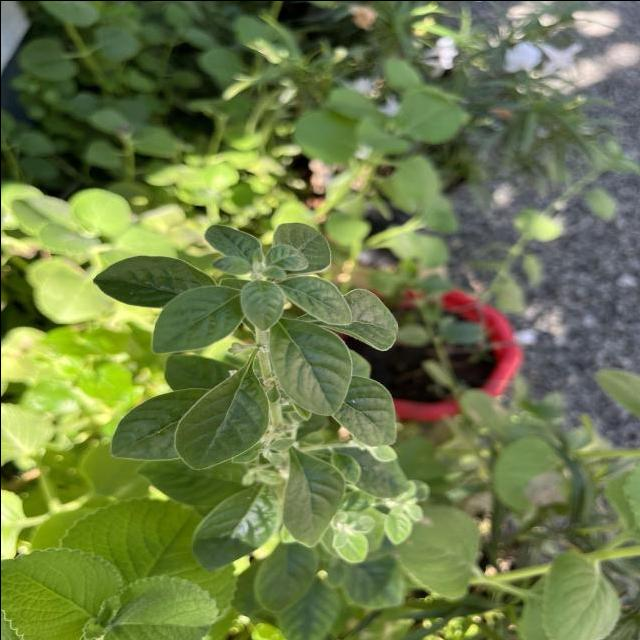Aerva lanata: (172, 355, 272, 472), (266, 314, 354, 416), (108, 384, 210, 462), (89, 253, 218, 310), (298, 286, 399, 352)
